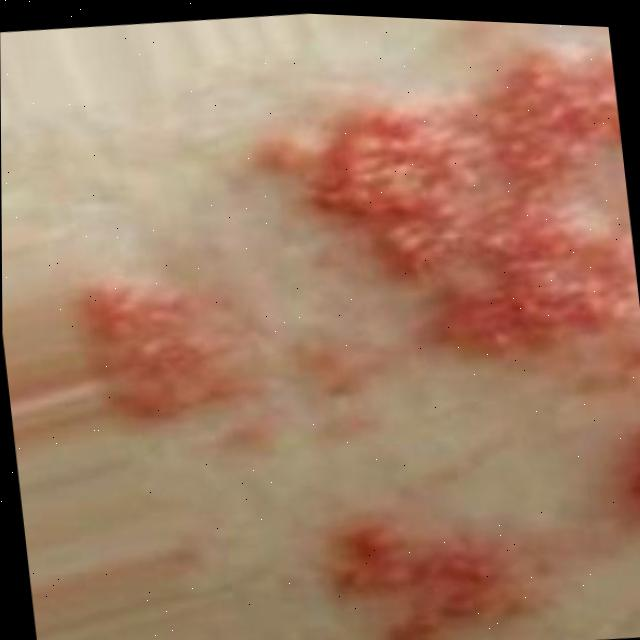Shingles: (258, 31, 640, 380), (81, 266, 284, 460), (327, 498, 529, 640), (625, 408, 640, 542)
